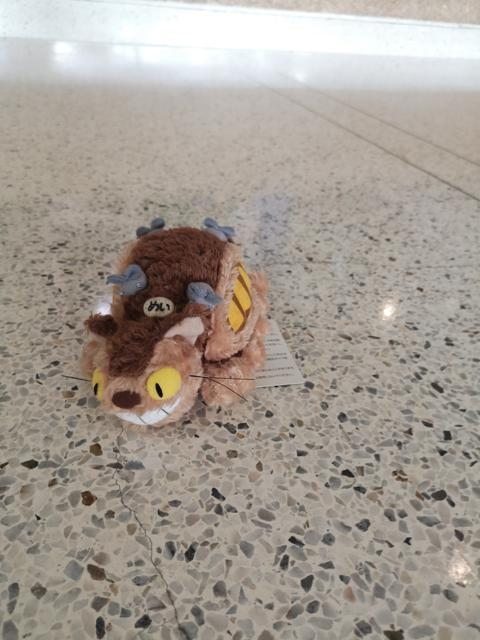nekobus: (62, 212, 303, 440)
